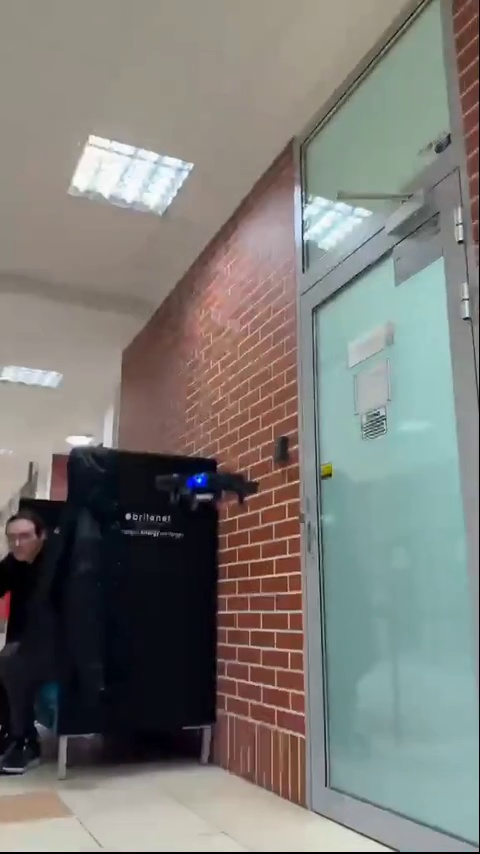drone: (153, 460, 254, 506)
no vest: (0, 512, 74, 788)
